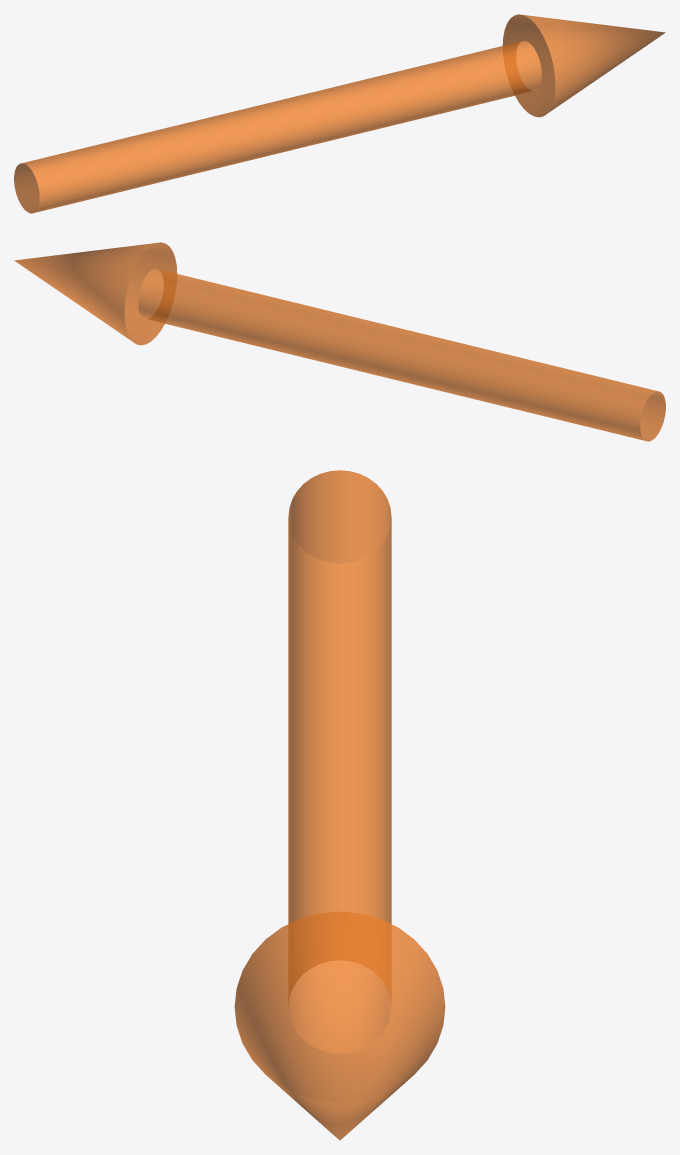
File: grab.fbx
The picture shows the model from 3 angles, top to bottom: view 1: azimuth 30°, elevation 25°; view 2: azimuth 150°, elevation 25°; view 3: azimuth 270°, elevation 25°; orthographic projection. The views are drawn at different scales.
Visible parts, largest first — view 1: grab; view 2: grab; view 3: grab.
Boxes of the visible parts, left/top/right/bottom form: grab: left=14, top=14, right=665, bottom=213; grab: left=14, top=242, right=665, bottom=441; grab: left=234, top=470, right=445, bottom=1140.
Bounding box in the file's own units: 1400 × 200 × 200.
